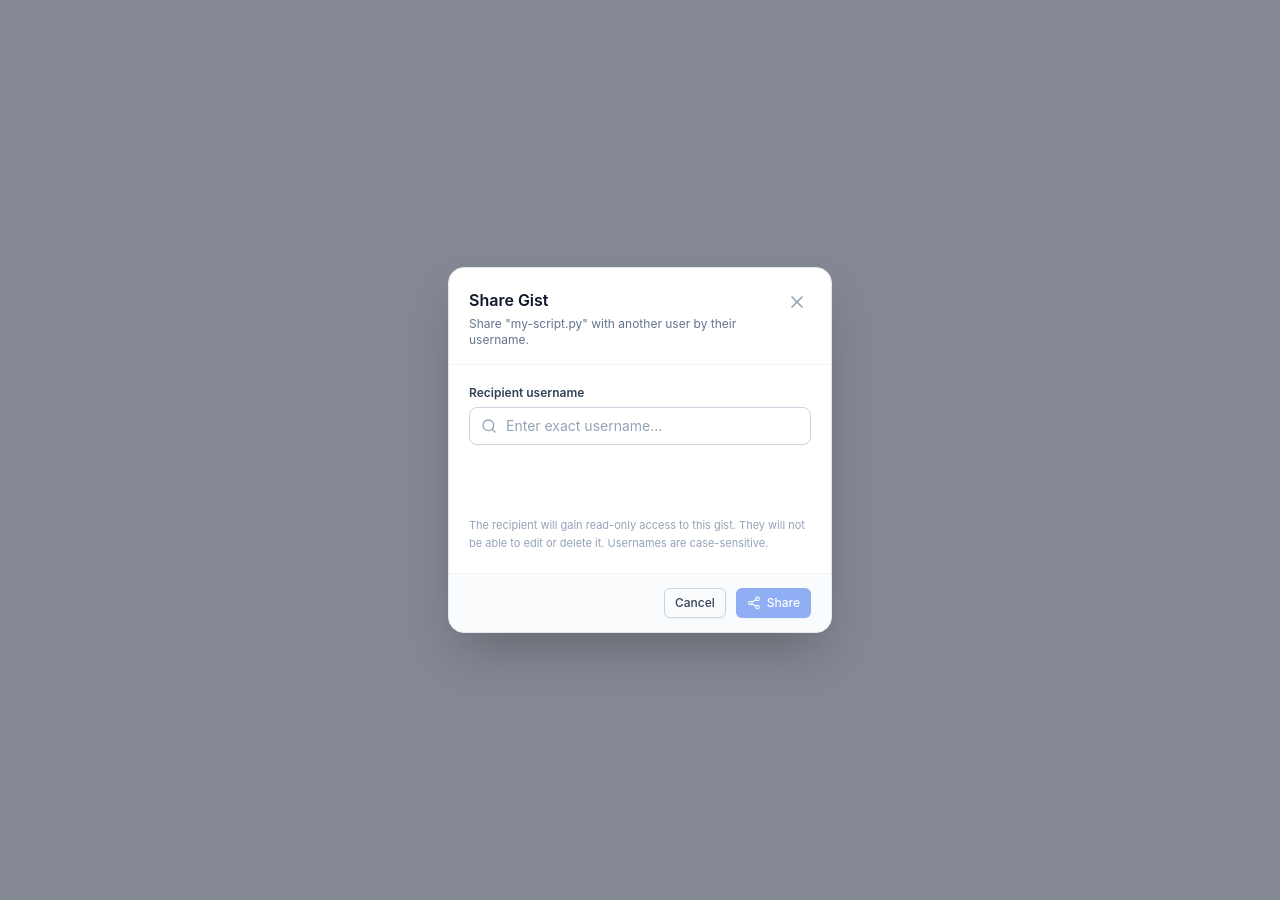
it: ShareGistModal — sharing submission › shows duplicate share error from the backend
In the field labelled "Recipient username": (640, 426) [469,407,811,445], type "bob"
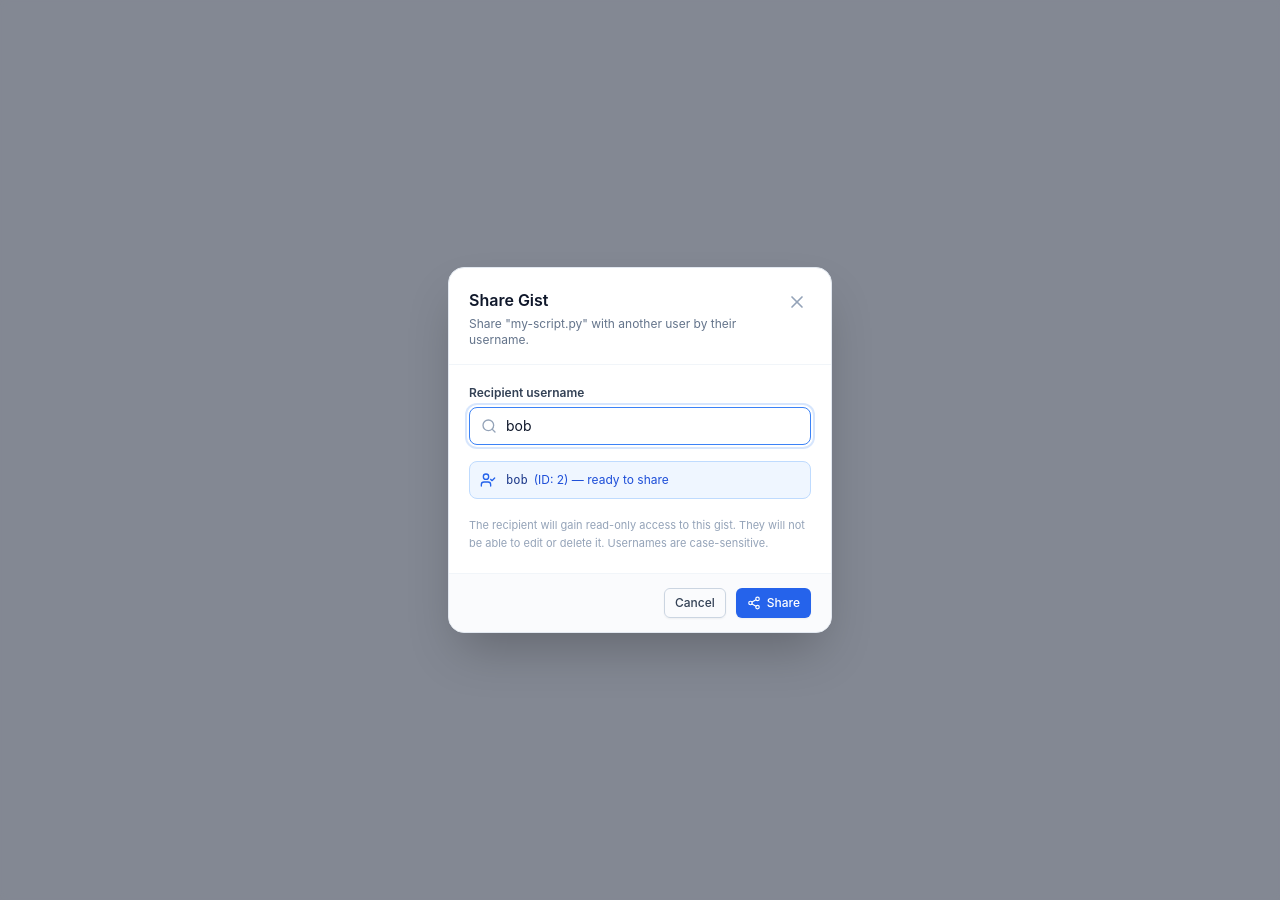
Expected: the text "(ID: 2) — ready to share" is shown, [534,472,669,487]
Click the button "Share": (773, 603) [736,588,811,618]
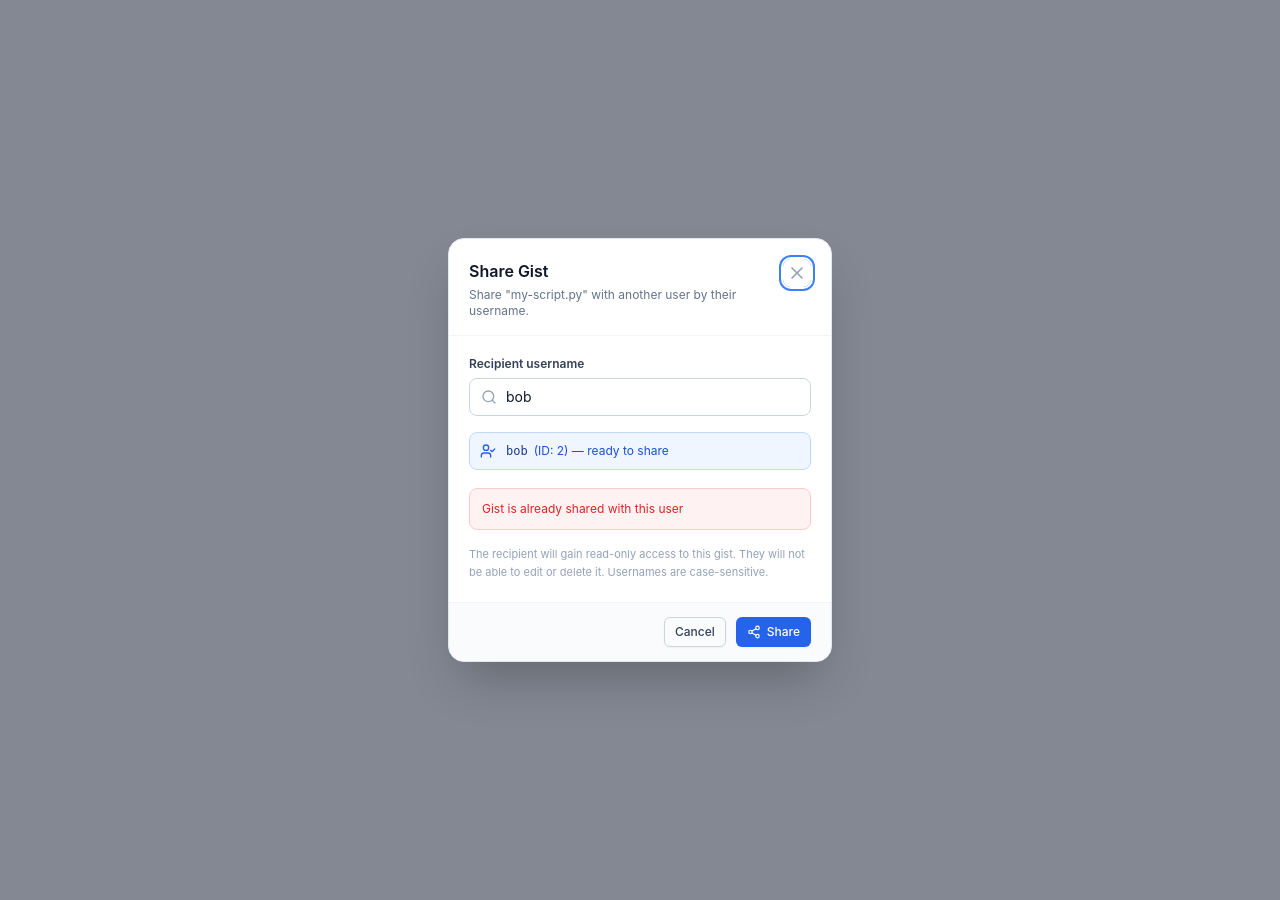
Expected: the text "Gist is already shared with this user" is shown, [469,488,811,530]
